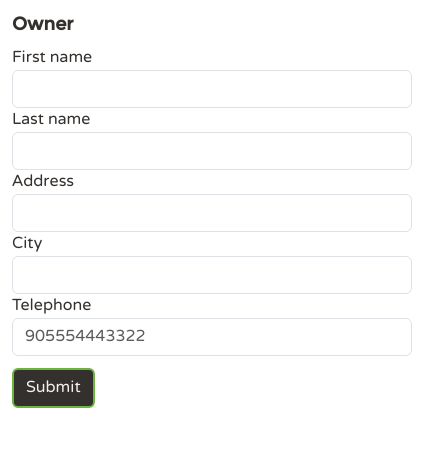
OwnerFormPage › shows a required-field message once a required field is touched and left empty
Click the field labelled "First name" at [212, 89], box [12,70,412,108]
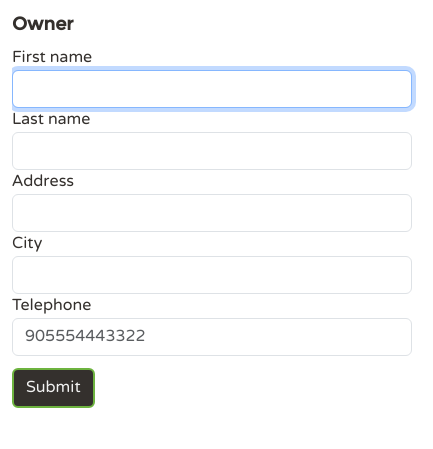
Press Tab
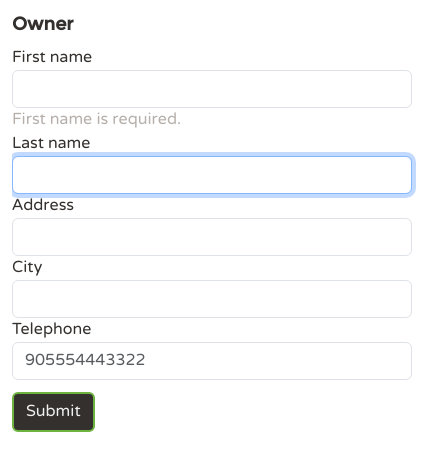
Check: the text "First name is required." is shown, box [12,110,181,129]
